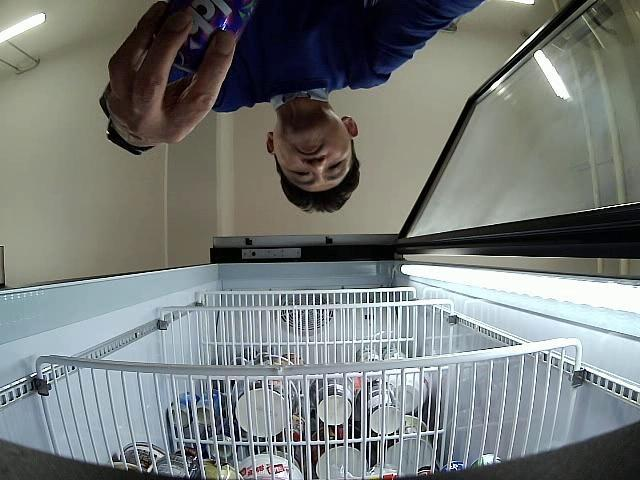14_welchsGrape: (173, 0, 255, 75)
